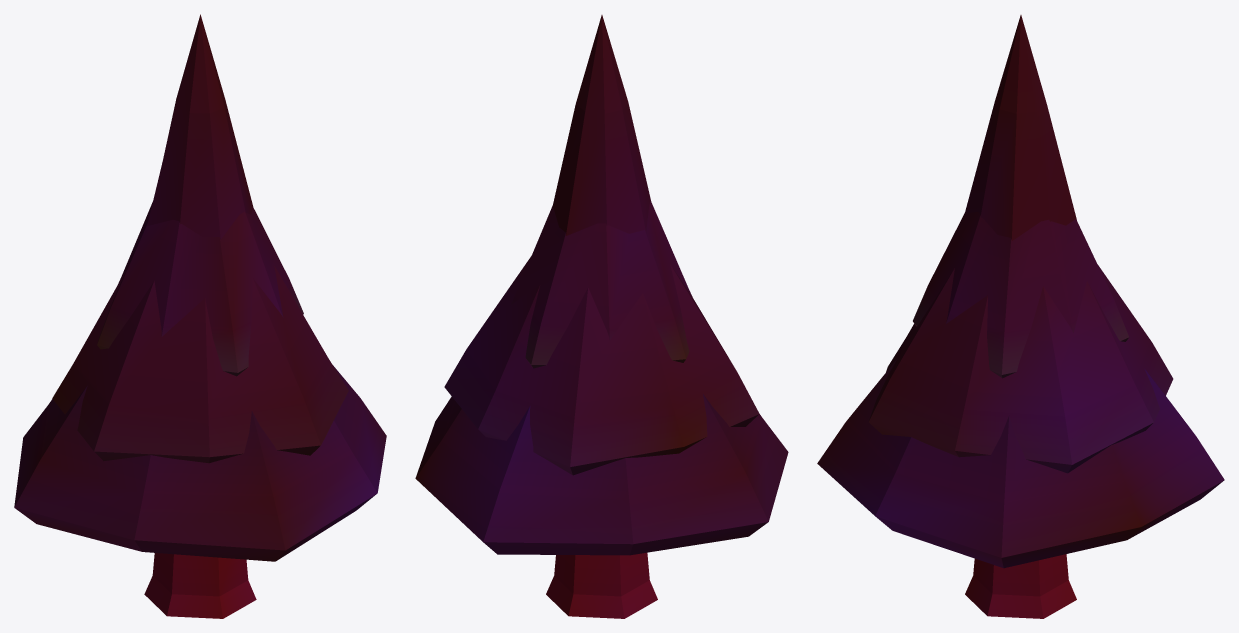
The model's file is Tree_Pine_Large_01.fbx.
3 views of the same model, side by side, from view 1: azimuth 30°, elevation 25°; view 2: azimuth 150°, elevation 25°; view 3: azimuth 270°, elevation 25° (orthographic).
Visible parts, largest first — view 1: Tree_Pine_Large_01; view 2: Tree_Pine_Large_01; view 3: Tree_Pine_Large_01.
Part boxes in pixels (x1,y1,x2,y2): Tree_Pine_Large_01: [14, 14, 386, 618]; Tree_Pine_Large_01: [415, 15, 788, 618]; Tree_Pine_Large_01: [817, 15, 1224, 618].
Size of the model in its own units: 3.64 by 5.75 by 3.64.
